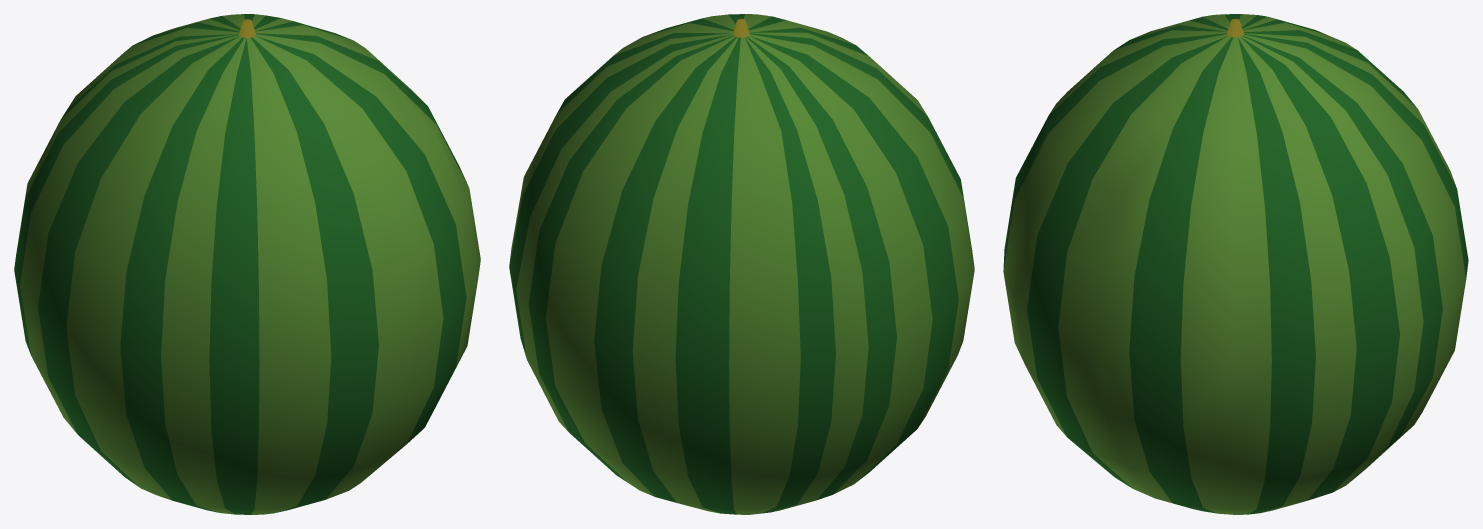
The model's file is watermelon.fbx.
3 renders of one model, left to right at view 1: azimuth 30°, elevation 25°; view 2: azimuth 150°, elevation 25°; view 3: azimuth 270°, elevation 25°, orthographic.
Parts seen in each view (by area): view 1: Watermelon; view 2: Watermelon; view 3: Watermelon.
Boxes of the visible parts, <box> form: Watermelon: <box>14,14,480,514</box>; Watermelon: <box>509,14,974,514</box>; Watermelon: <box>1003,14,1468,514</box>.
Size of the model in its own units: 674 by 763 by 676.
